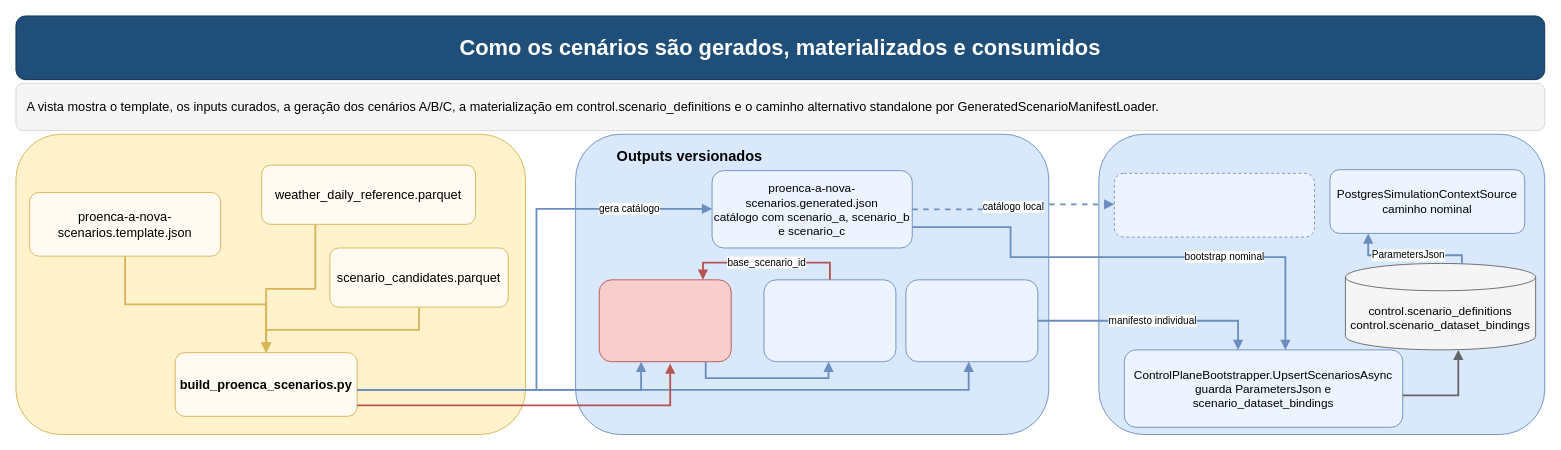
Some shapes in this 1561 by 450 pixel diagram are drawn without their labels. Each missing label, with the box of its shape:
GeneratedScenarioManifestLoader caminho standalone: (1113, 172, 1314, 237)
Inputs e geração: (15, 133, 526, 435)
Materialização e consumo: (1098, 133, 1545, 435)
scenario_a.base.json Base 2017-06-01: (905, 279, 1038, 362)
scenario_b.high-risk.json HighRisk 2020-09-13: (763, 279, 896, 362)
scenario_c.degraded-pipeline.json DegradedPipeline base_scenario_id = scenario_b: (598, 279, 731, 362)
